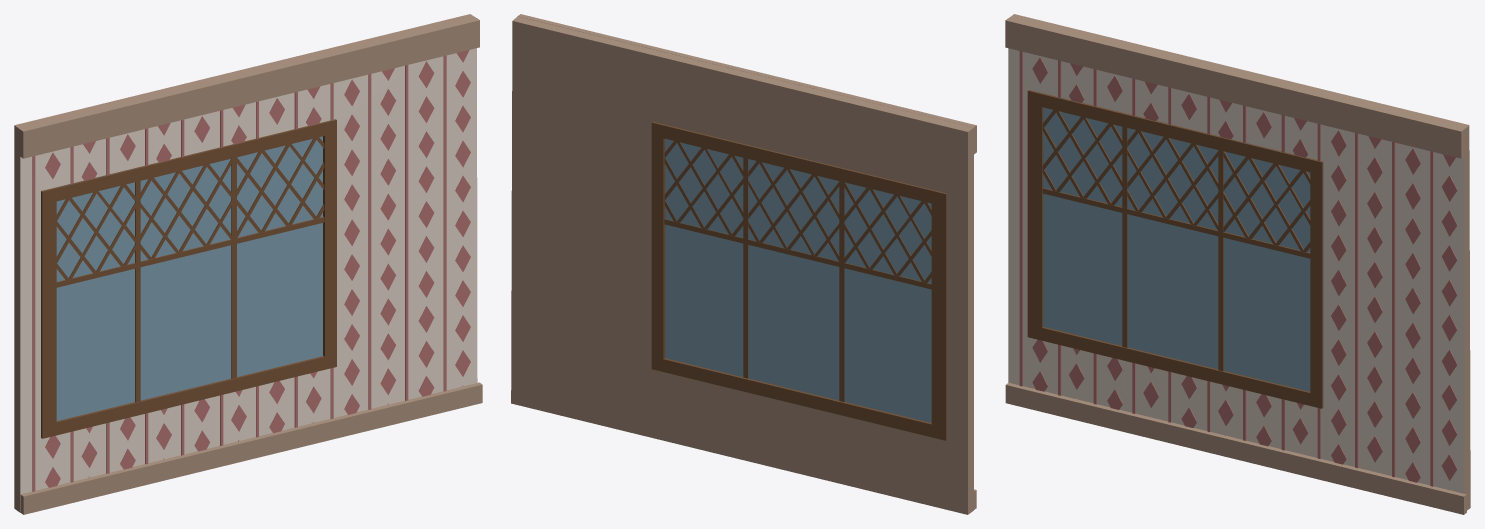
File: Wall_13.fbx
3 renders of one model, left to right at view 1: azimuth 30°, elevation 25°; view 2: azimuth 150°, elevation 25°; view 3: azimuth 330°, elevation 25°, orthographic.
Parts seen in each view (by area): view 1: Wall_13; view 2: Wall_13; view 3: Wall_13.
Boxes of the visible parts, bbox=[...] form: Wall_13: bbox=[14, 14, 482, 514]; Wall_13: bbox=[511, 14, 976, 514]; Wall_13: bbox=[1005, 14, 1470, 514].
Size of the model in its own units: 492 by 19.03 by 392.
